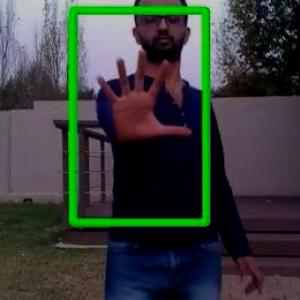follow_hand: (94, 44, 193, 152)
